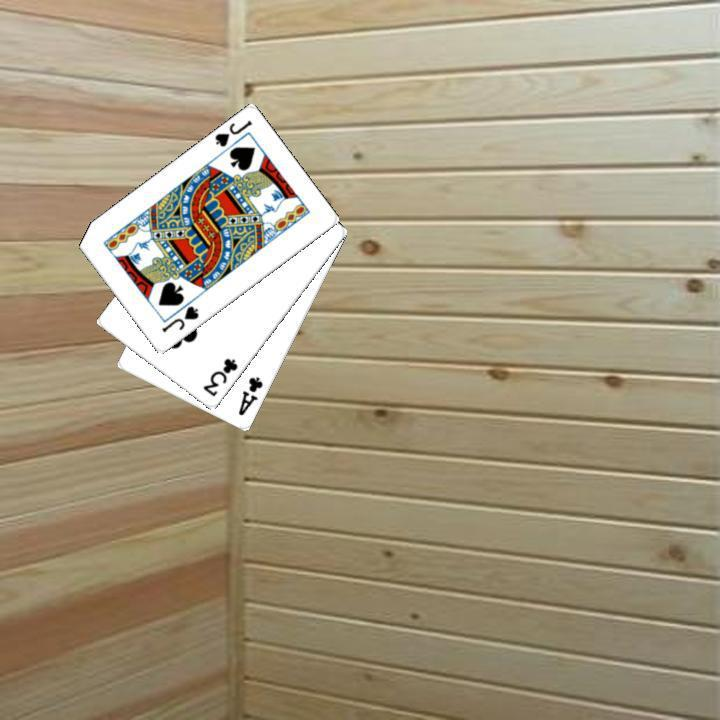3: (198, 354, 240, 399)
A: (234, 373, 265, 418)
J: (210, 116, 254, 150), (157, 302, 201, 335)
